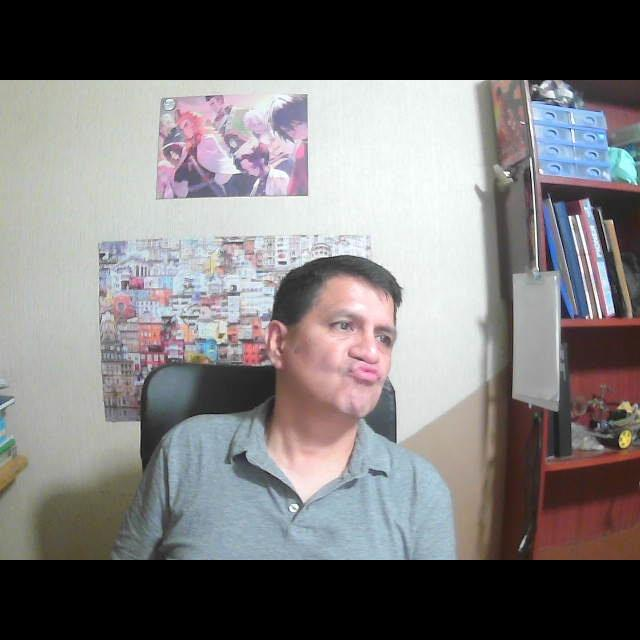cesar: (253, 238, 412, 446)
